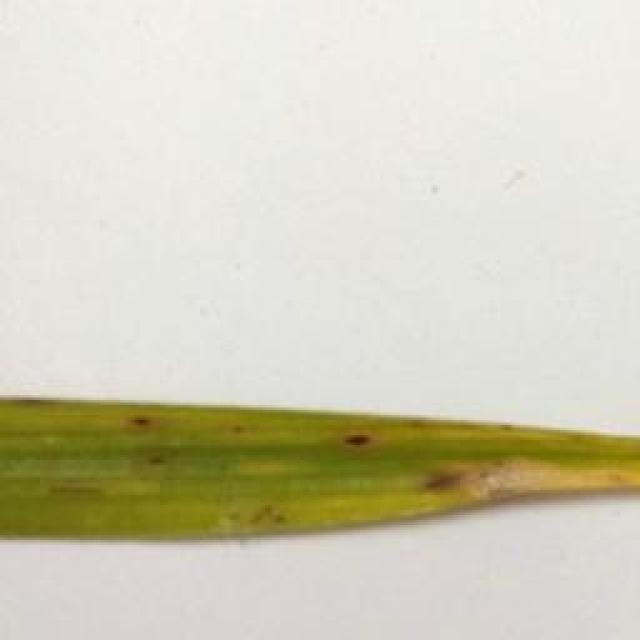Brown_Spot: (408, 454, 477, 500), (339, 428, 385, 456), (133, 410, 161, 430), (147, 446, 171, 468)
